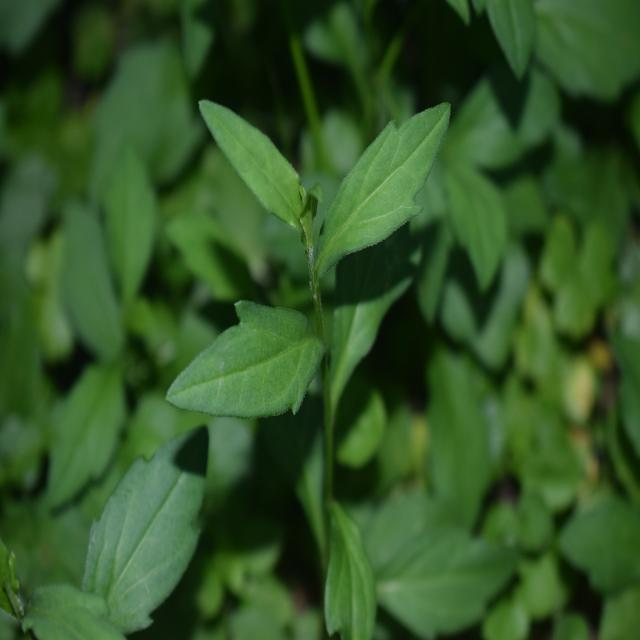Indian aster: (159, 83, 467, 617)
